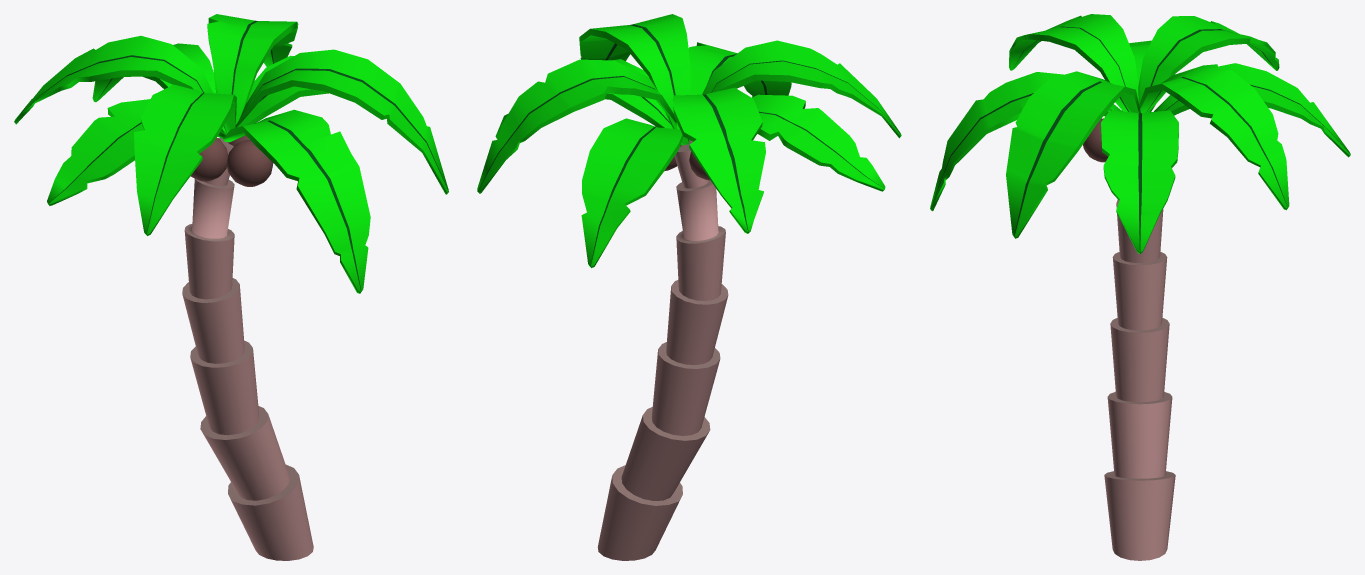
The model's file is palmiye.fbx.
3 renders of one model, left to right at view 1: azimuth 30°, elevation 25°; view 2: azimuth 150°, elevation 25°; view 3: azimuth 270°, elevation 25°, orthographic. The views are drawn at different scales.
Visible parts, largest first — view 1: Cylinder; view 2: Cylinder; view 3: Cylinder.
Boxes of the visible parts, box(x1,y1,x2,y2) form: Cylinder: box(14, 14, 448, 560); Cylinder: box(477, 14, 901, 560); Cylinder: box(930, 14, 1350, 560).
Size of the model in its own units: 1144 by 1449 by 1179.
